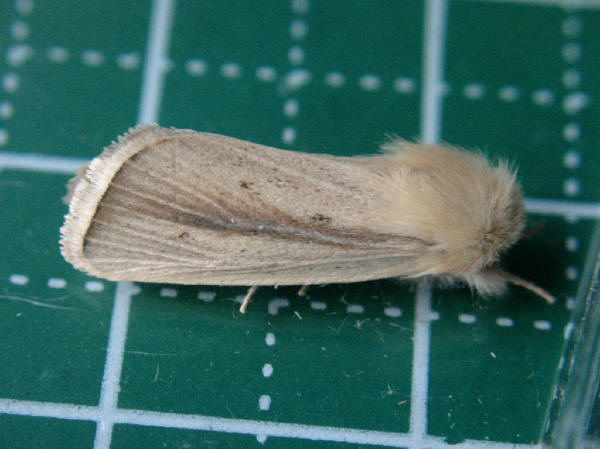Noctuidae: (53, 130, 555, 301)
